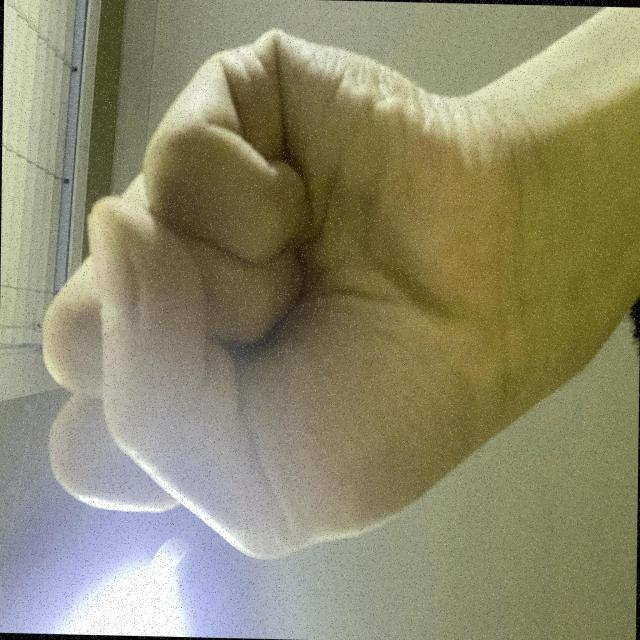S: (46, 39, 484, 640)
